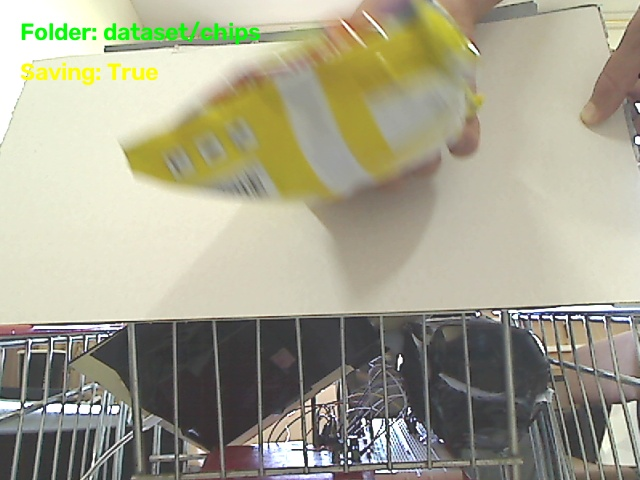chips: (124, 0, 479, 201)
